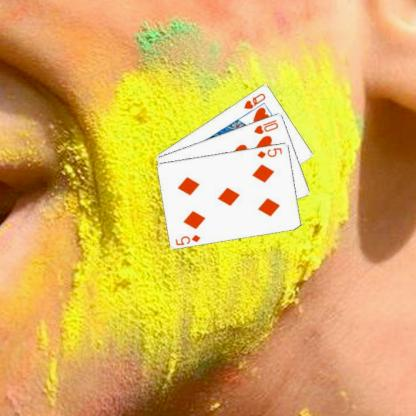10H: (252, 117, 280, 135)
5D: (254, 145, 284, 159), (173, 232, 202, 246)
QH: (241, 90, 267, 110)
